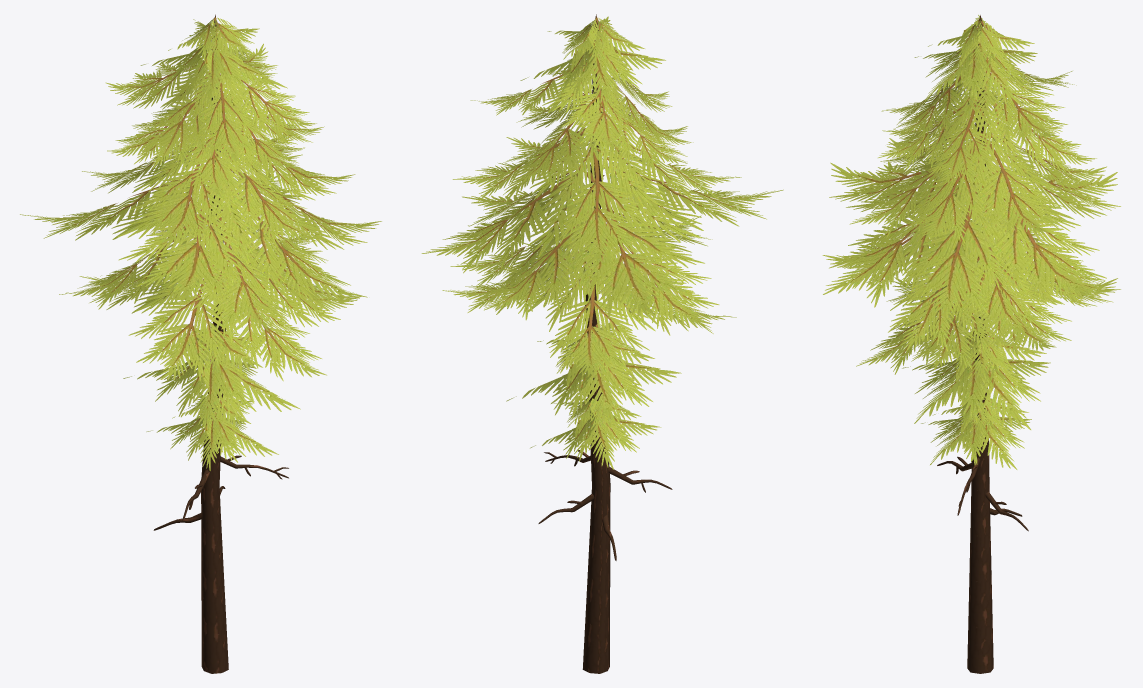
File: dead_tree2.glb
The picture shows the model from 3 angles, left to right: view 1: azimuth 30°, elevation 25°; view 2: azimuth 150°, elevation 25°; view 3: azimuth 270°, elevation 25°; orthographic projection.
Visible parts, largest first — view 1: PineTree_2; view 2: PineTree_2; view 3: PineTree_2.
Boxes of the visible parts, x1,y1,x2,y2 form: PineTree_2: (20, 14, 381, 673); PineTree_2: (421, 14, 783, 673); PineTree_2: (822, 15, 1120, 673).
Size of the model in its own units: 3.6 by 7.6 by 3.28.
Materials: 2 (2 with a texture image).
